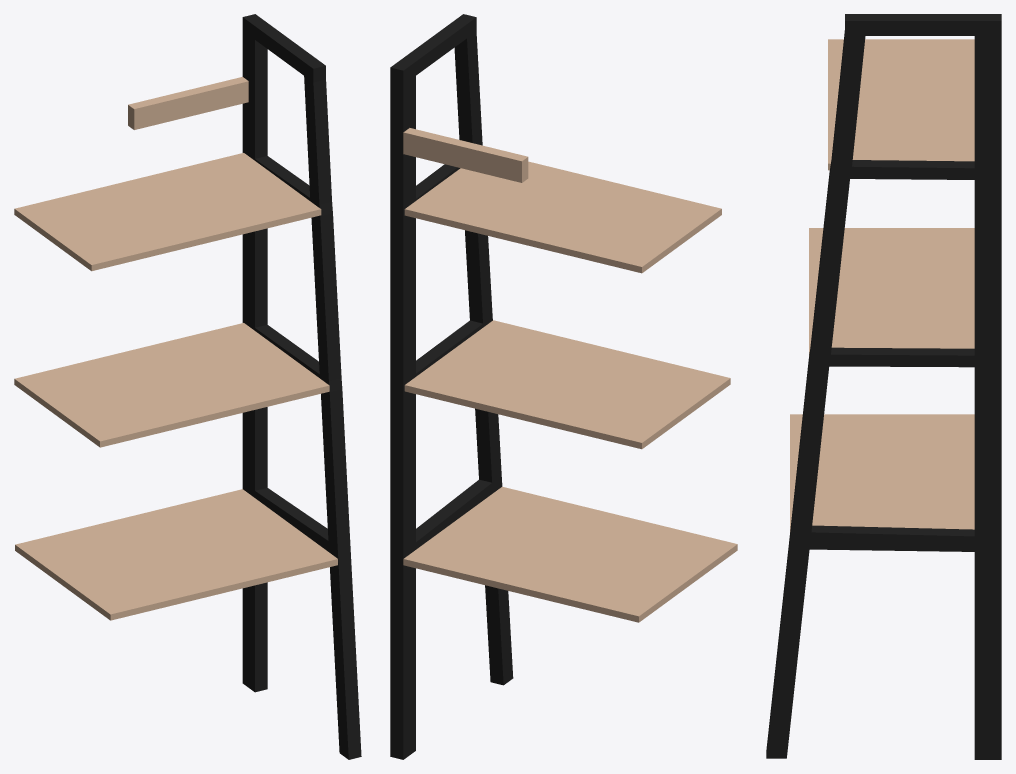
File: furniture1.gltf
3 views of the same model, side by side, from view 1: azimuth 30°, elevation 25°; view 2: azimuth 150°, elevation 25°; view 3: azimuth 270°, elevation 25° (orthographic). The views are drawn at different scales.
Parts seen in each view (by area): view 1: Cube; view 2: Cube; view 3: Cube.
Boxes of the visible parts, left/top/right/bottom form: Cube: left=14, top=14, right=361, bottom=759; Cube: left=390, top=14, right=737, bottom=759; Cube: left=766, top=14, right=1001, bottom=759.
Bounding box in the file's own units: 0.347 × 0.9125 × 0.2635.
1 material, 1 textured.
